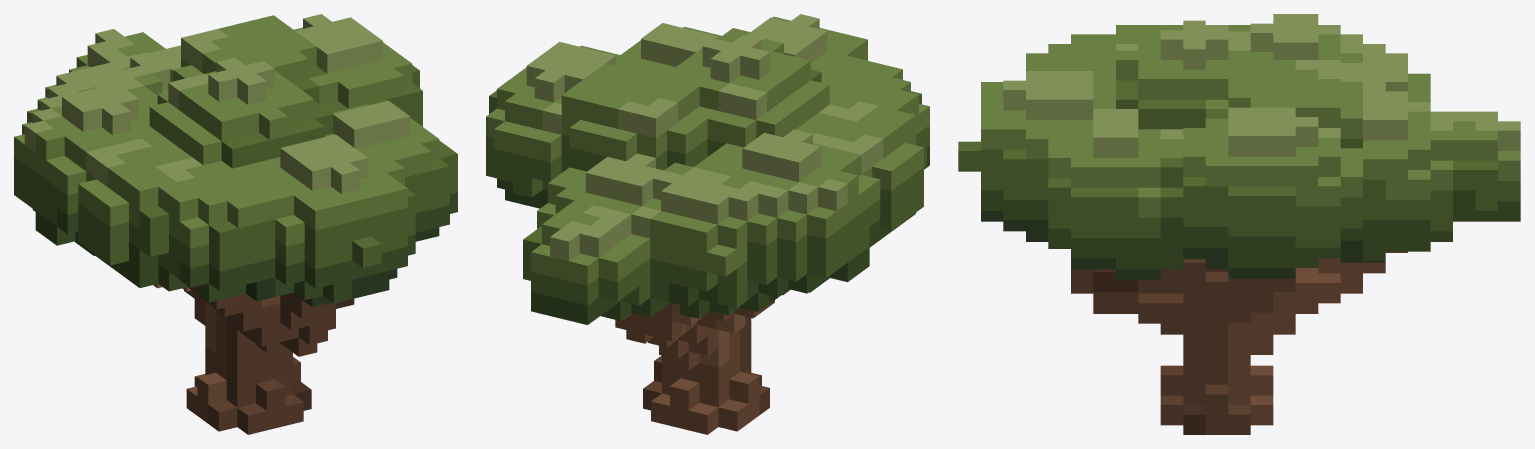
Rendered from apple_ancient_2.glb.
3 renders of one model, left to right at view 1: azimuth 30°, elevation 25°; view 2: azimuth 150°, elevation 25°; view 3: azimuth 270°, elevation 25°, orthographic. The views are drawn at different scales.
Visible parts, largest first — view 1: apple_ancient_2; view 2: apple_ancient_2; view 3: apple_ancient_2.
Part boxes in pixels (x1,y1,x2,y2): apple_ancient_2: (14, 14, 457, 434); apple_ancient_2: (486, 14, 929, 434); apple_ancient_2: (958, 14, 1520, 434).
Bounding box in the file's own units: 19 × 18 × 25.
